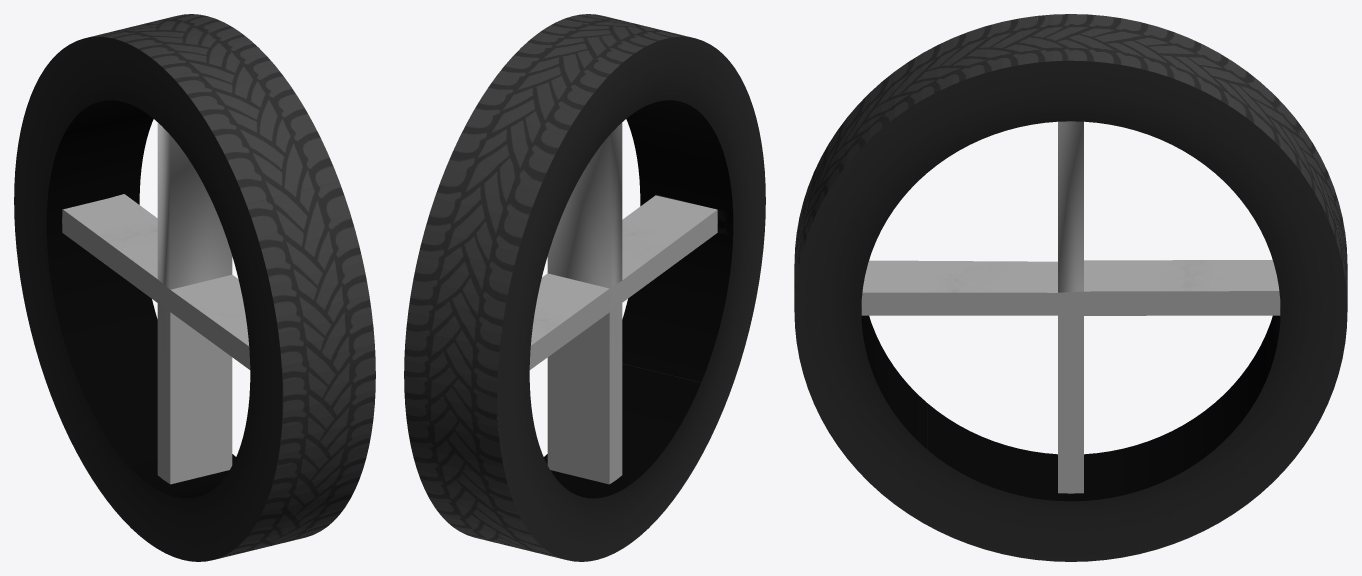
The model's file is tire.obj.
3 renders of one model, left to right at view 1: azimuth 30°, elevation 25°; view 2: azimuth 150°, elevation 25°; view 3: azimuth 270°, elevation 25°, orthographic. The views are drawn at different scales.
Visible parts, largest first — view 1: wheel_Circle_Circle.001; view 2: wheel_Circle_Circle.001; view 3: wheel_Circle_Circle.001.
Part boxes in pixels (left/top/right/bottom): wheel_Circle_Circle.001: left=14, top=14, right=375, bottom=561; wheel_Circle_Circle.001: left=404, top=14, right=765, bottom=561; wheel_Circle_Circle.001: left=794, top=14, right=1347, bottom=561.
Bounding box in the file's own units: 0.2 × 1 × 1.
